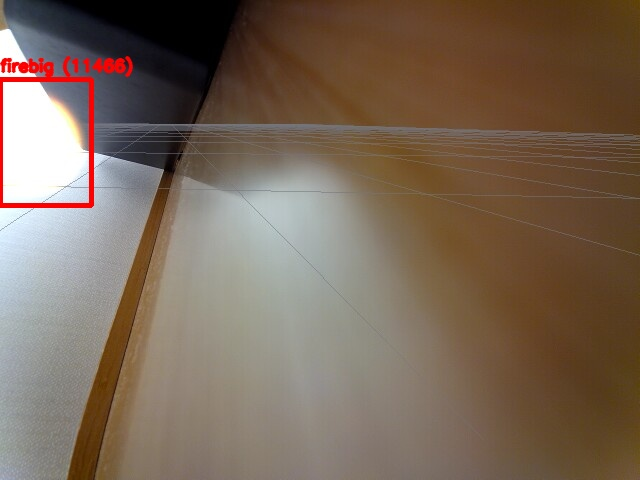firebig: (0, 79, 91, 205)
